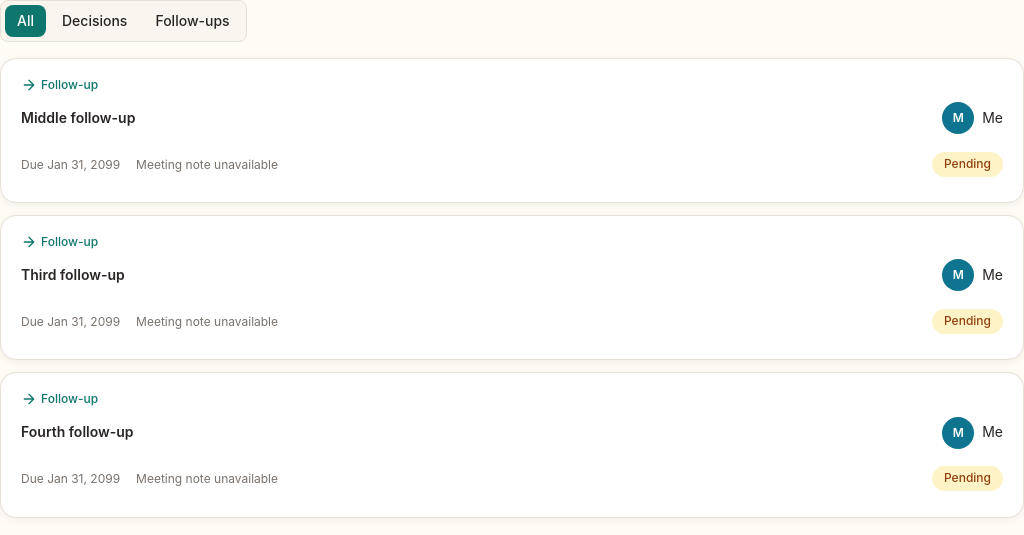
Scenario: DecisionFollowUpList › shows the empty state when a filter leaves nothing
Click the radio button labelled "Decisions": x=95, y=21 [50, 5, 139, 37]
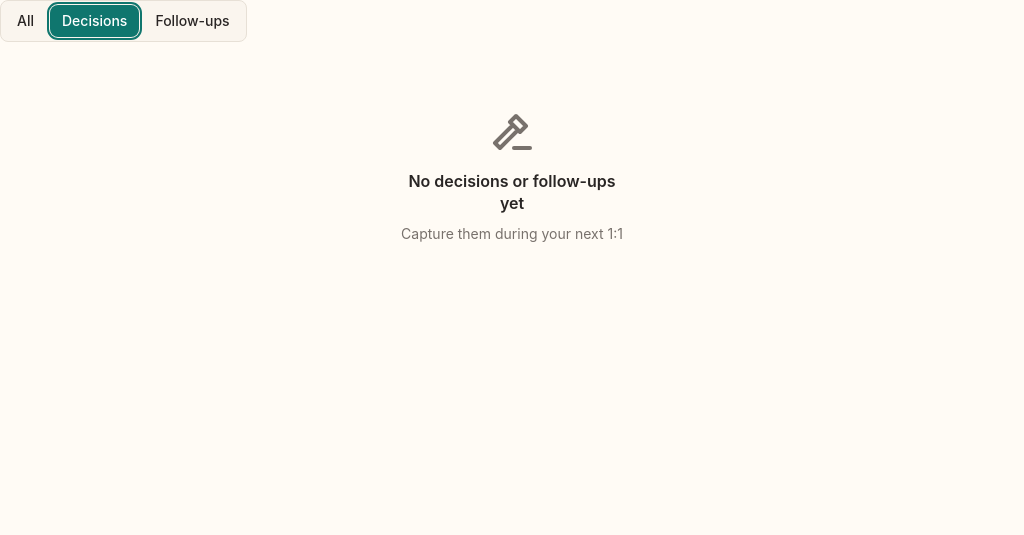
Check: the heading "No decisions or follow-ups yet" is shown, box [400, 170, 624, 215]
